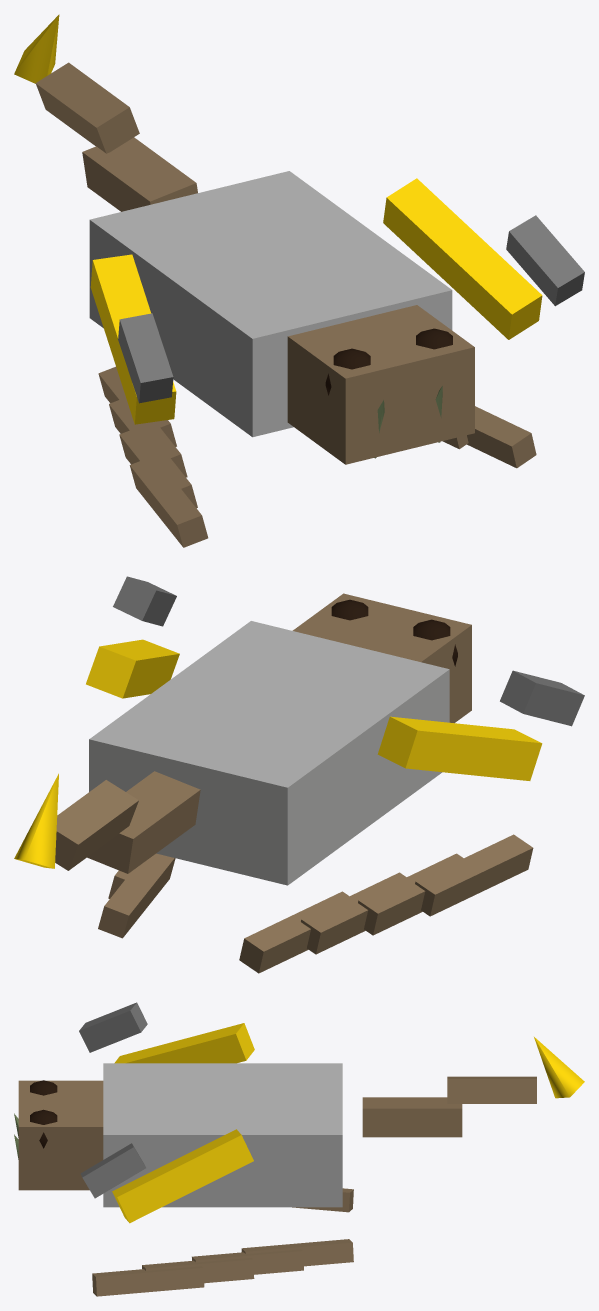
File: DesertScorpionMedA.glb
3 views of the same model, one above another, from view 1: azimuth 30°, elevation 25°; view 2: azimuth 150°, elevation 25°; view 3: azimuth 270°, elevation 25° (orthographic). The views are drawn at different scales.
Parts seen in each view (by area): view 1: SandScorpionBody; view 2: SandScorpionBody; view 3: SandScorpionBody.
Part boxes in pixels (x1,y1,x2,y2): SandScorpionBody: [14, 14, 584, 547]; SandScorpionBody: [14, 576, 584, 973]; SandScorpionBody: [14, 1002, 584, 1296].
Size of the model in its own units: 1.05 by 0.6127 by 1.58.
